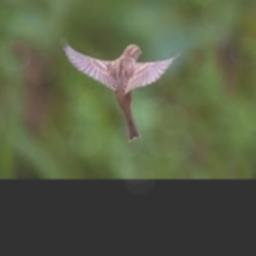Sparrow: (60, 37, 183, 142)
